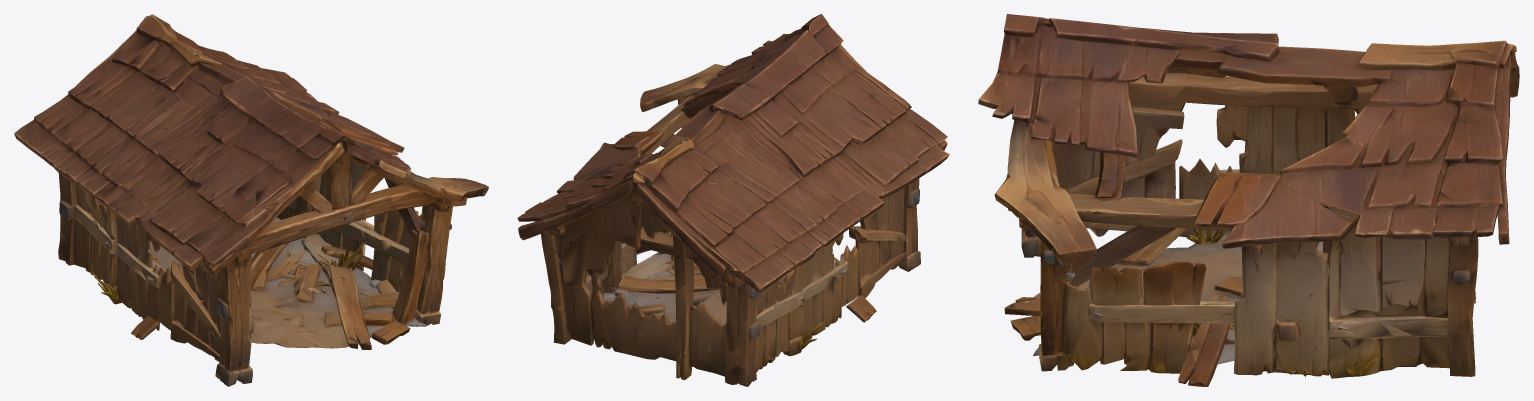
File: collapsed-shed.glb
The picture shows the model from 3 angles, left to right: view 1: azimuth 30°, elevation 25°; view 2: azimuth 150°, elevation 25°; view 3: azimuth 270°, elevation 25°; orthographic projection. The views are drawn at different scales.
Parts seen in each view (by area): view 1: SM_CollapsedShed; view 2: SM_CollapsedShed; view 3: SM_CollapsedShed.
Part boxes in pixels (box(x1,y1,x2,y2)): SM_CollapsedShed: box(14, 14, 488, 386); SM_CollapsedShed: box(517, 14, 949, 386); SM_CollapsedShed: box(978, 14, 1519, 386).
Size of the model in its own units: 3.39 by 2.51 by 4.
1 material, 1 textured.
